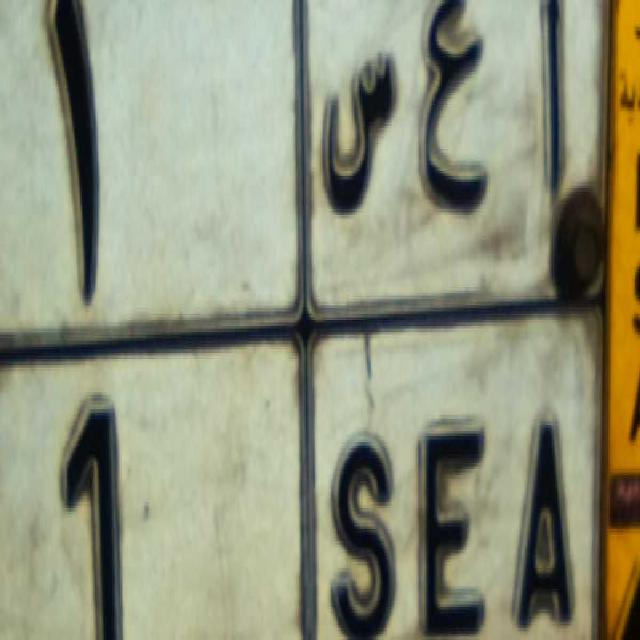license_plate: (0, 301, 596, 639)
